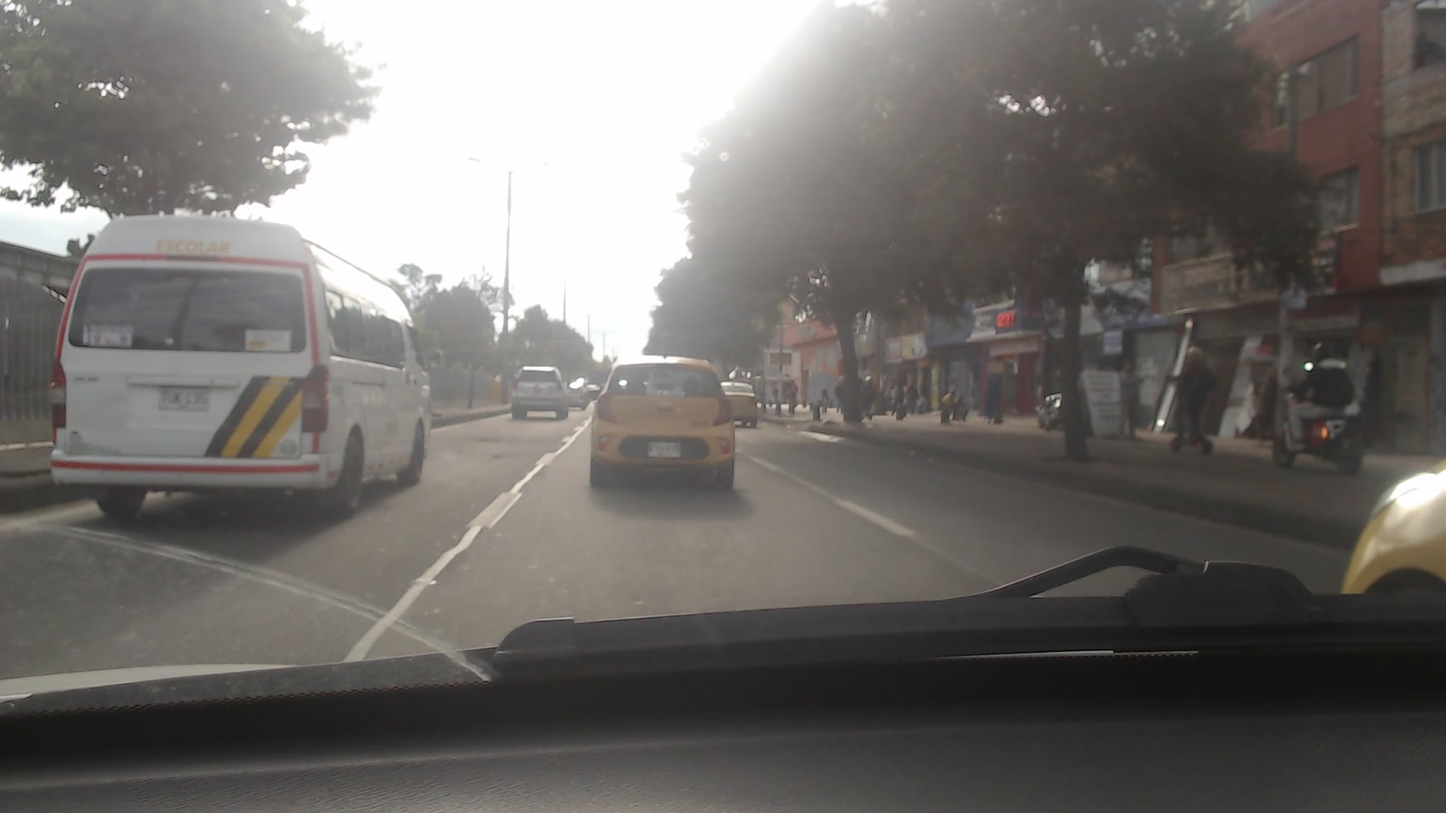bus: (46, 214, 443, 506)
car: (582, 359, 743, 493), (502, 359, 575, 418), (703, 371, 759, 431)
motorcycle: (1268, 387, 1366, 477)
person: (1292, 330, 1345, 449), (1166, 344, 1216, 444)
